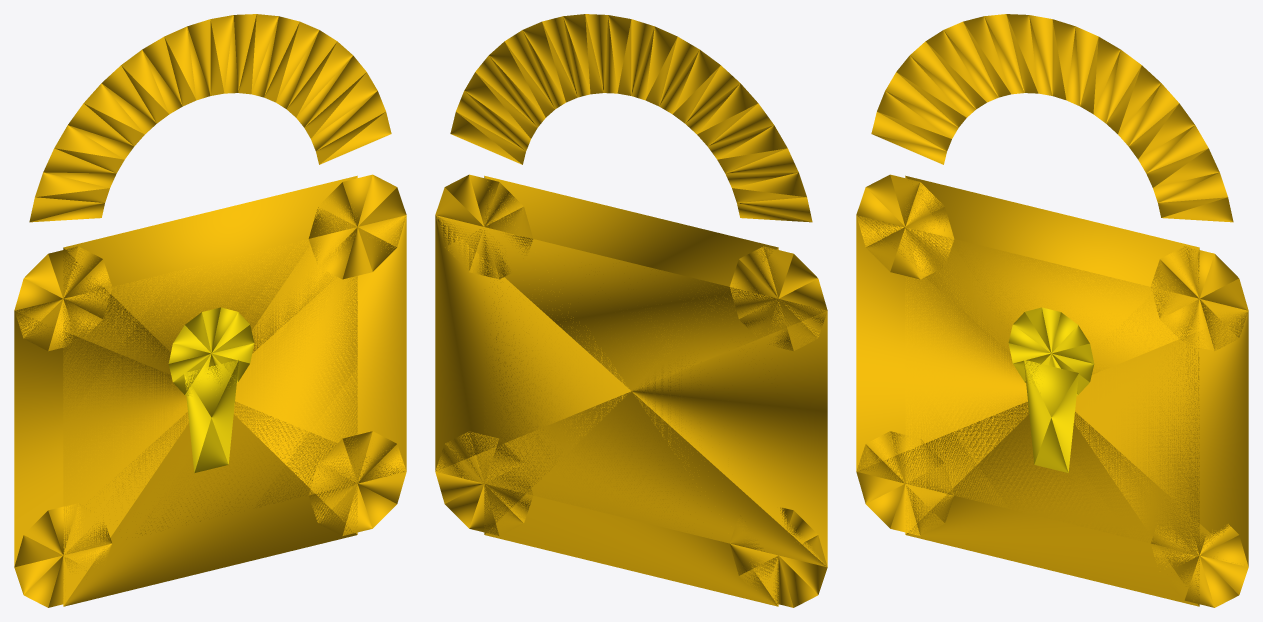
The model's file is lock.glb.
3 renders of one model, left to right at view 1: azimuth 30°, elevation 25°; view 2: azimuth 150°, elevation 25°; view 3: azimuth 330°, elevation 25°, orthographic.
Parts seen in each view (by area): view 1: lock-mesh; view 2: lock-mesh; view 3: lock-mesh.
Part boxes in pixels (x1,y1,x2,y2): lock-mesh: (14,14,406,607); lock-mesh: (435,14,827,607); lock-mesh: (856,14,1248,607).
Size of the model in its own units: 0.64 by 0.86 by 0.00299.
